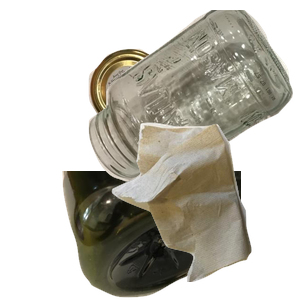glass: (86, 10, 300, 184)
metal: (86, 46, 248, 169)
plastic: (60, 171, 300, 300)
trash: (109, 120, 300, 300)
